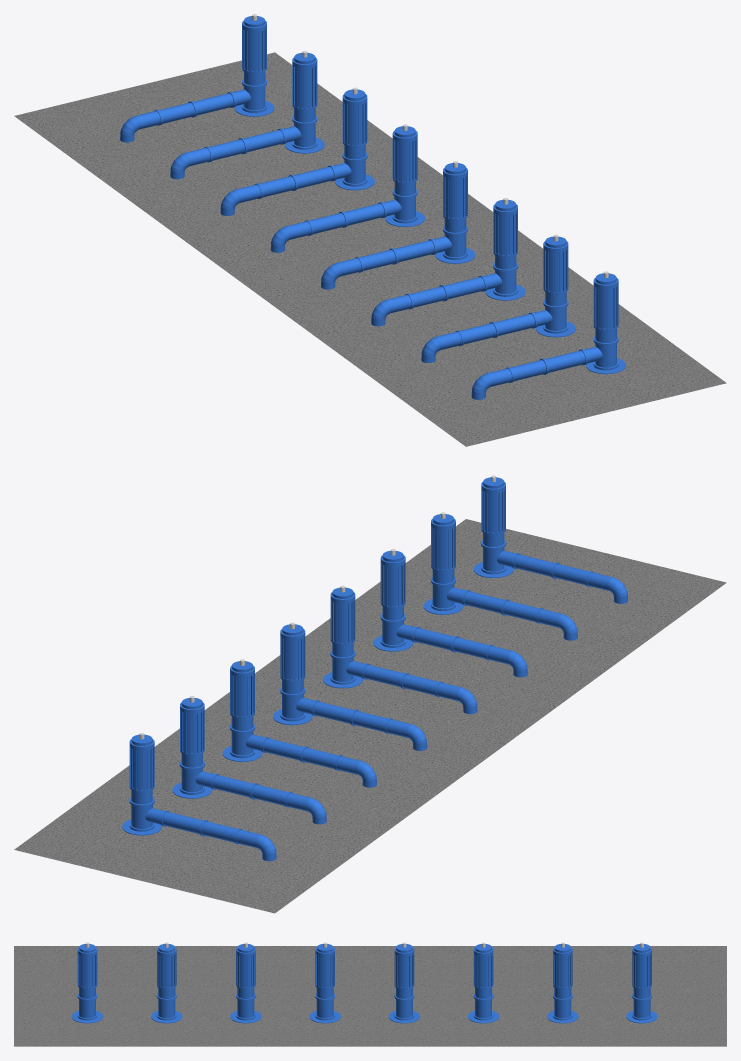
The picture shows the model from 3 angles, top to bottom: view 1: azimuth 30°, elevation 25°; view 2: azimuth 150°, elevation 25°; view 3: azimuth 270°, elevation 25°; orthographic projection. The views are drawn at different scales.
Visible parts, largest first — view 1: Plane, Pump.007, Pump.002, Pump.006, Pump.001, Pump.005, Pump.004, Pump.003, Pump.008; view 2: Plane, Pump.008, Pump.003, Pump.004, Pump.005, Pump.006, Pump.002, Pump.007, Pump.001; view 3: Plane, Pump.001, Pump.006, Pump.005, Pump.002, Pump.004, Pump.008, Pump.003, Pump.007.
Part boxes in pixels (box(x1,y1,x2,y2)): Plane: box(14, 52, 726, 446); Pump.007: box(170, 52, 324, 179); Pump.002: box(421, 236, 575, 362); Pump.006: box(220, 89, 374, 215); Pump.001: box(471, 273, 625, 399); Pump.005: box(270, 126, 424, 252); Pump.004: box(321, 163, 475, 289); Pump.003: box(371, 200, 525, 326); Pump.008: box(120, 16, 274, 142); Plane: box(14, 519, 726, 913); Pump.008: box(122, 734, 276, 861); Pump.003: box(373, 551, 527, 677); Pump.004: box(323, 587, 477, 714); Pump.005: box(273, 624, 427, 750); Pump.006: box(222, 661, 376, 787); Pump.002: box(423, 514, 577, 640); Pump.007: box(172, 698, 326, 824); Pump.001: box(473, 477, 628, 603); Plane: box(14, 946, 726, 1046); Pump.001: box(71, 944, 103, 1023); Pump.006: box(468, 944, 499, 1023); Pump.005: box(388, 944, 419, 1023); Pump.002: box(151, 944, 182, 1023); Pump.004: box(309, 944, 340, 1023); Pump.008: box(626, 944, 657, 1023); Pump.003: box(230, 944, 261, 1023); Pump.007: box(547, 944, 578, 1023).
Size of the model in its own units: 12 by 4.16 by 36.
3 materials, 1 textured.
